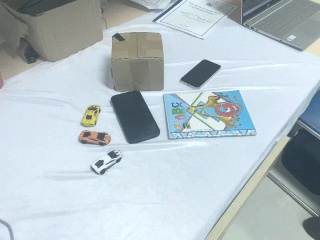book: (162, 85, 254, 142)
box: (1, 1, 105, 65), (110, 30, 166, 93)
phone: (110, 90, 163, 144), (179, 58, 222, 89)
toy_car: (90, 148, 123, 174), (79, 129, 111, 146), (81, 105, 101, 127)
